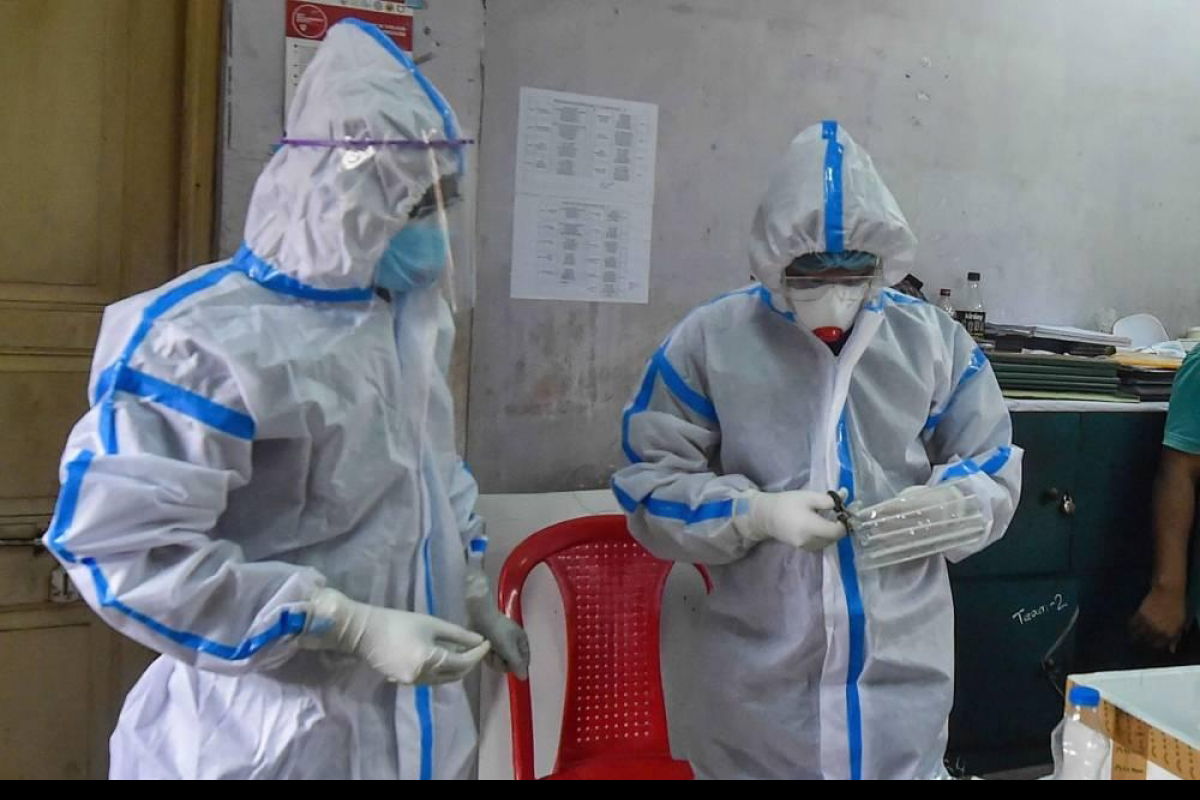Coverall: (62, 24, 484, 796), (616, 104, 1009, 800)
Gloves: (305, 587, 480, 691), (459, 561, 539, 686), (734, 482, 842, 556)
with_mask: (365, 199, 456, 293), (784, 258, 871, 347)
